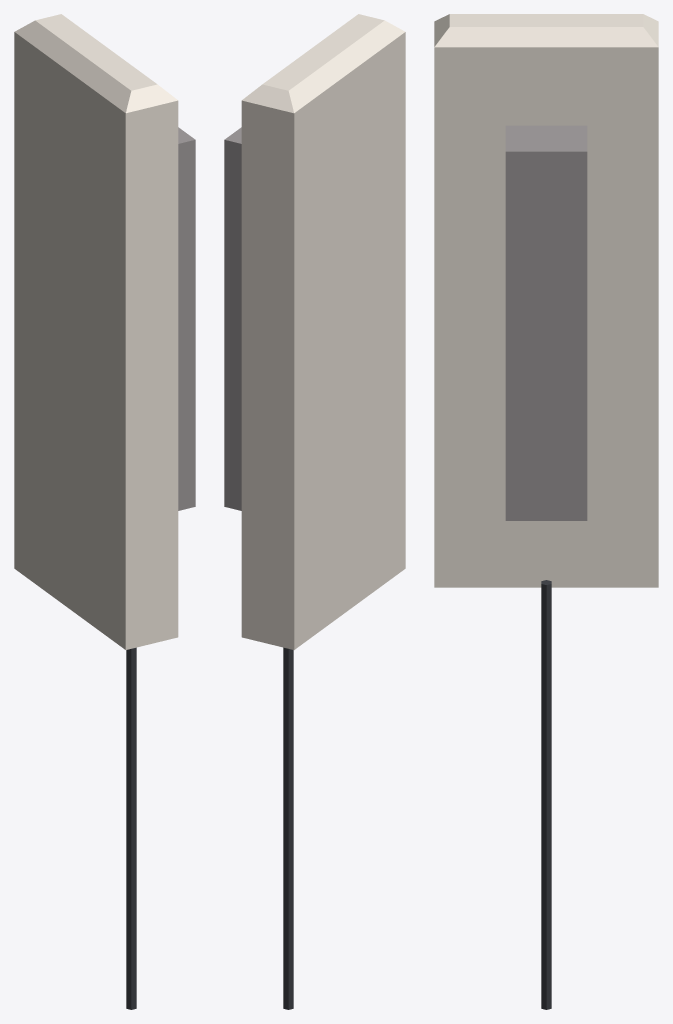
File: SM_Fixture_AntennaPanel_L_01.gltf
3 views of the same model, side by side, from view 1: azimuth 30°, elevation 25°; view 2: azimuth 150°, elevation 25°; view 3: azimuth 270°, elevation 25° (orthographic).
Visible parts, largest first — view 1: SM_Fixture_AntennaPanel_L_01; view 2: SM_Fixture_AntennaPanel_L_01; view 3: SM_Fixture_AntennaPanel_L_01.
Boxes of the visible parts, x1,y1,x2,y2 form: SM_Fixture_AntennaPanel_L_01: [14, 14, 195, 1009]; SM_Fixture_AntennaPanel_L_01: [224, 14, 405, 1009]; SM_Fixture_AntennaPanel_L_01: [434, 14, 658, 1009].
Bounding box in the file's own units: 0.12 × 1.05 × 0.22.
1 material, 1 textured.
